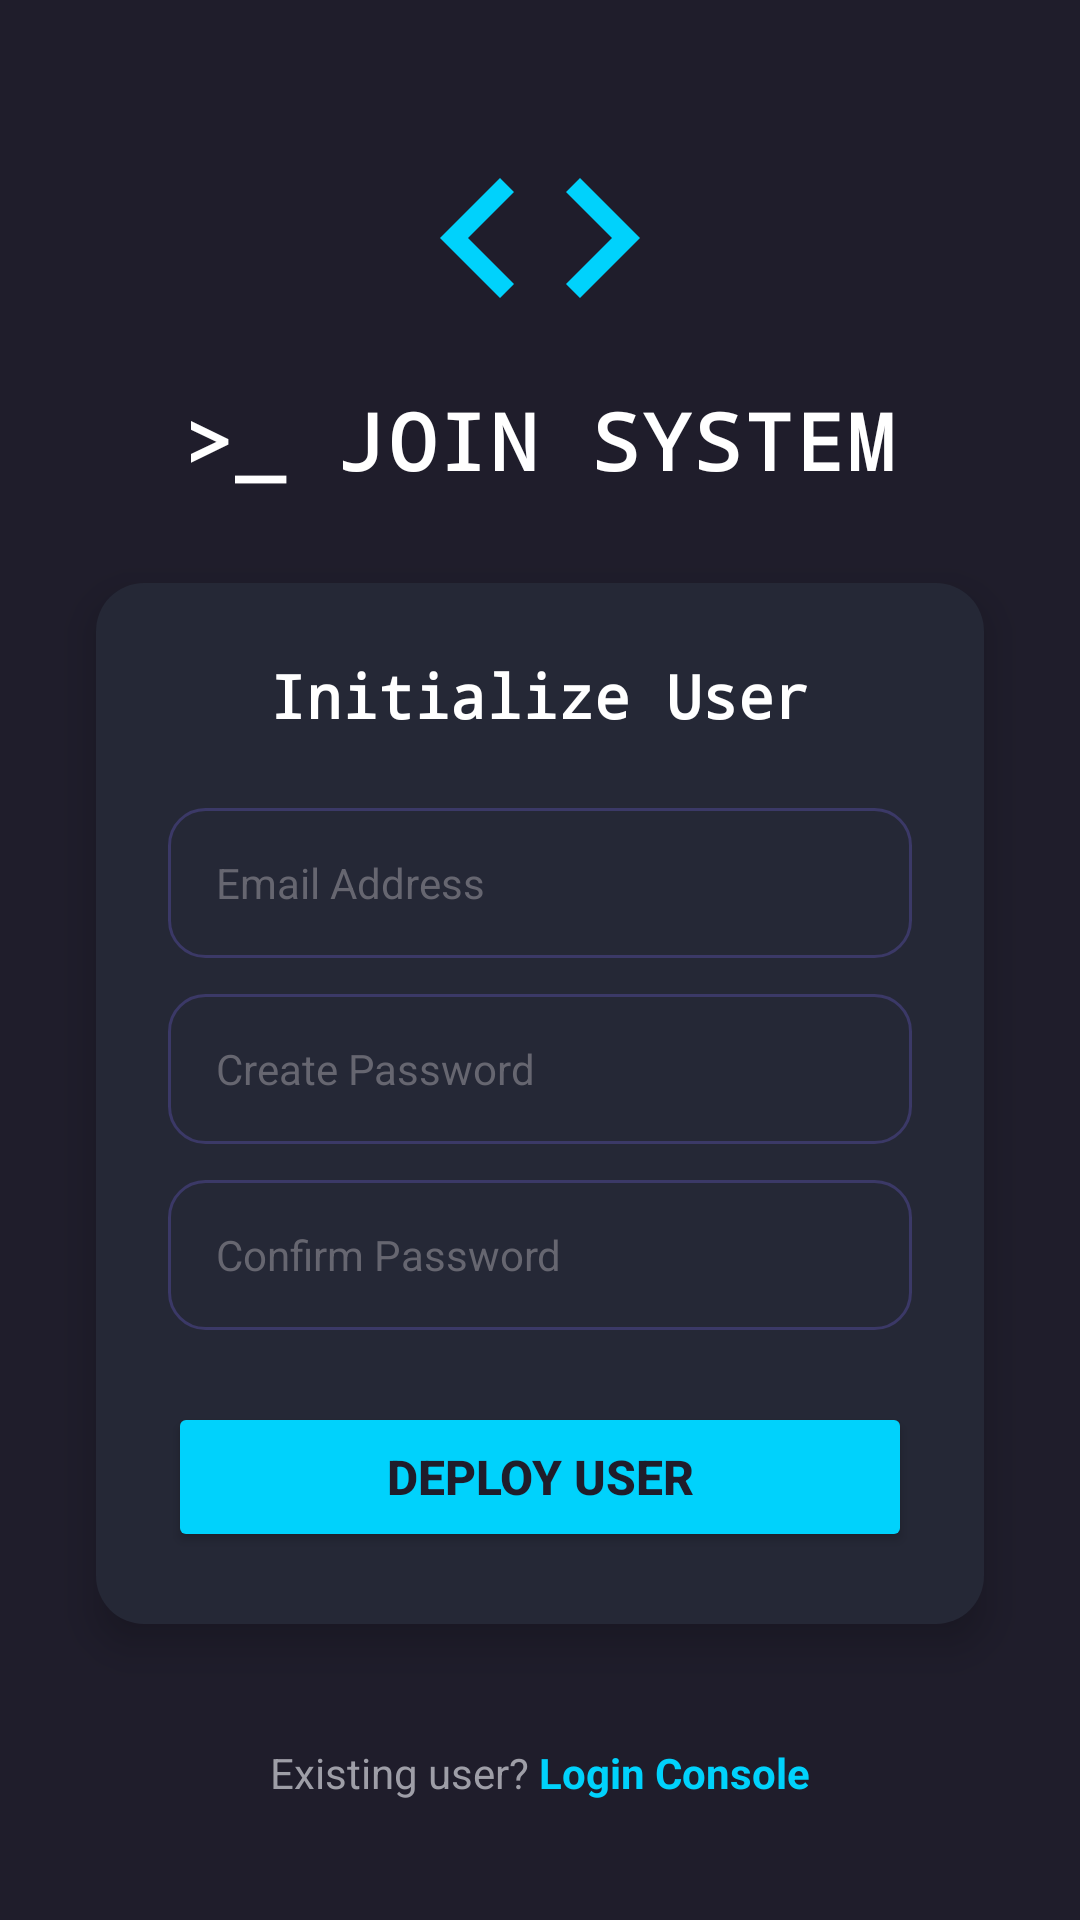

Icon click points for this 1080px x 1920px phone screenshot, format (x=x, y=y):
code: (x=540, y=238)
